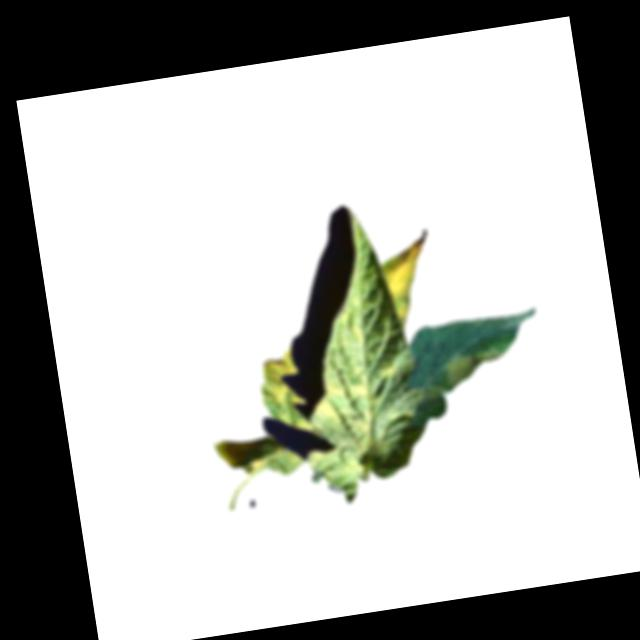Leaf_Mold: (377, 231, 442, 329), (310, 373, 377, 439), (440, 343, 515, 393), (254, 344, 303, 413)
